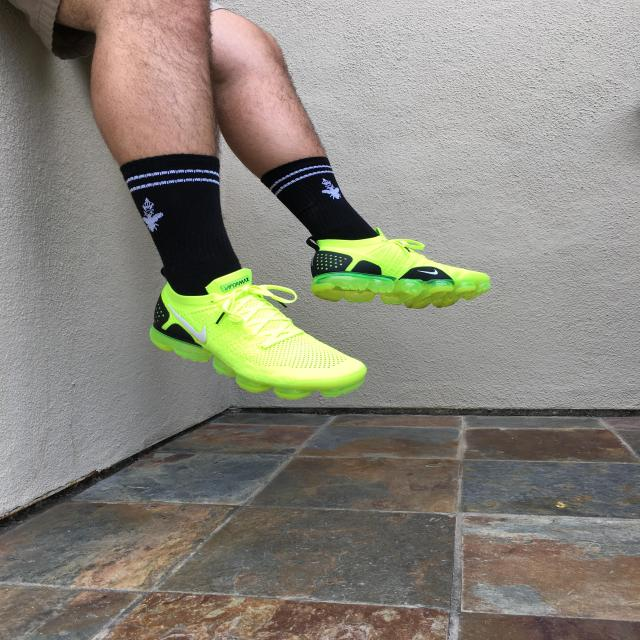shoe: (140, 276, 442, 457), (254, 208, 494, 302)
